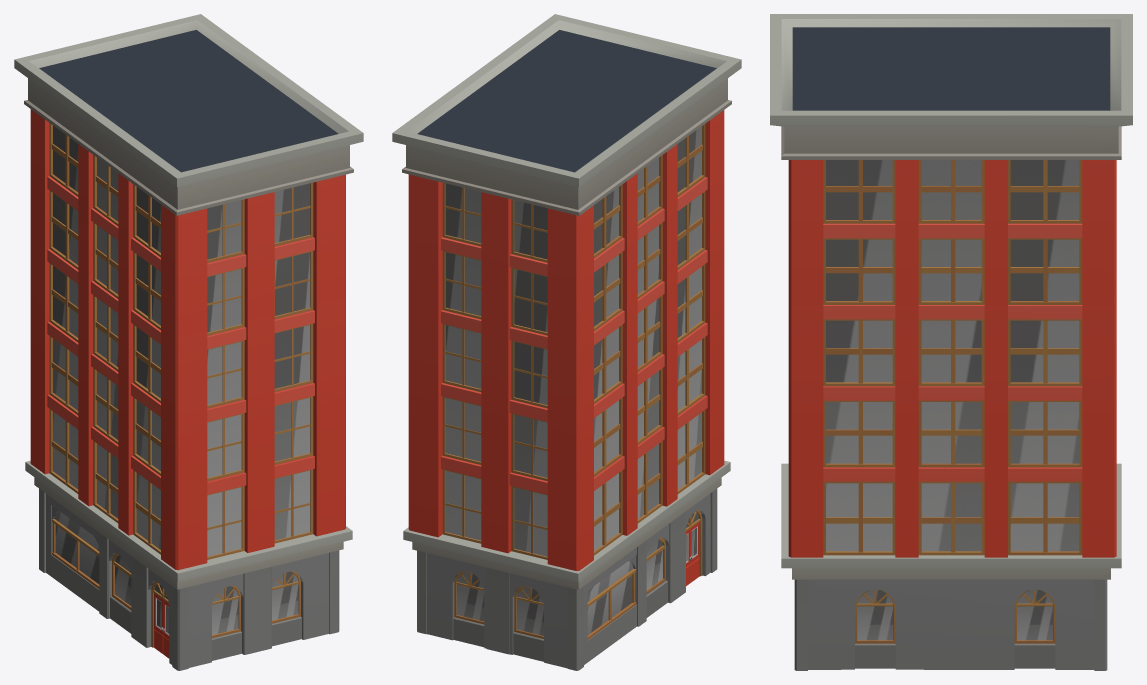
The model's file is Building_27_E.fbx.
3 renders of one model, left to right at view 1: azimuth 30°, elevation 25°; view 2: azimuth 150°, elevation 25°; view 3: azimuth 270°, elevation 25°, orthographic. The views are drawn at different scales.
Visible parts, largest first — view 1: Building_27_E; view 2: Building_27_E; view 3: Building_27_E.
Part boxes in pixels (box(x1,y1,x2,y2)): Building_27_E: box(14, 14, 363, 670); Building_27_E: box(392, 14, 741, 670); Building_27_E: box(770, 14, 1132, 670).
Size of the model in its own units: 765 by 1974 by 1155.
